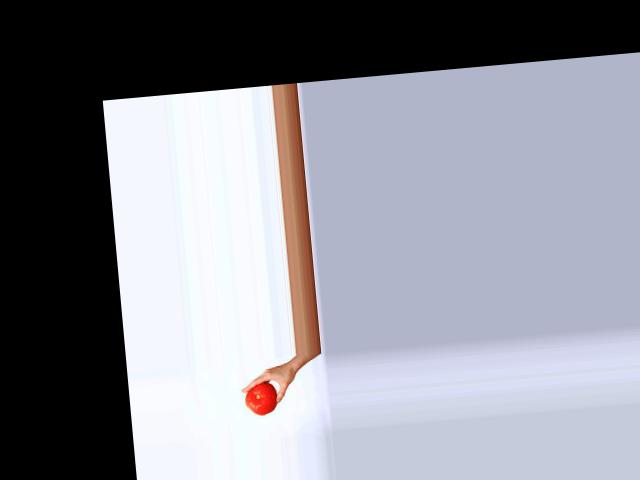tomato: (243, 382, 278, 416)
